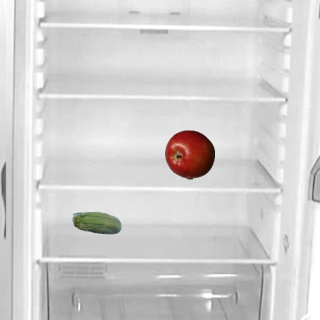Apple Braeburn: (164, 129, 214, 179)
Corn Husk: (71, 199, 121, 249)
